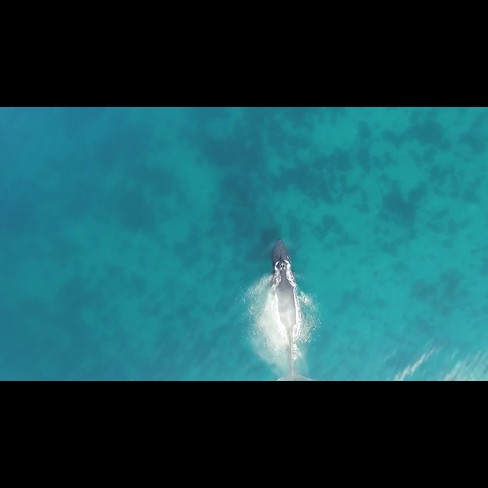hump: (260, 231, 319, 381)
